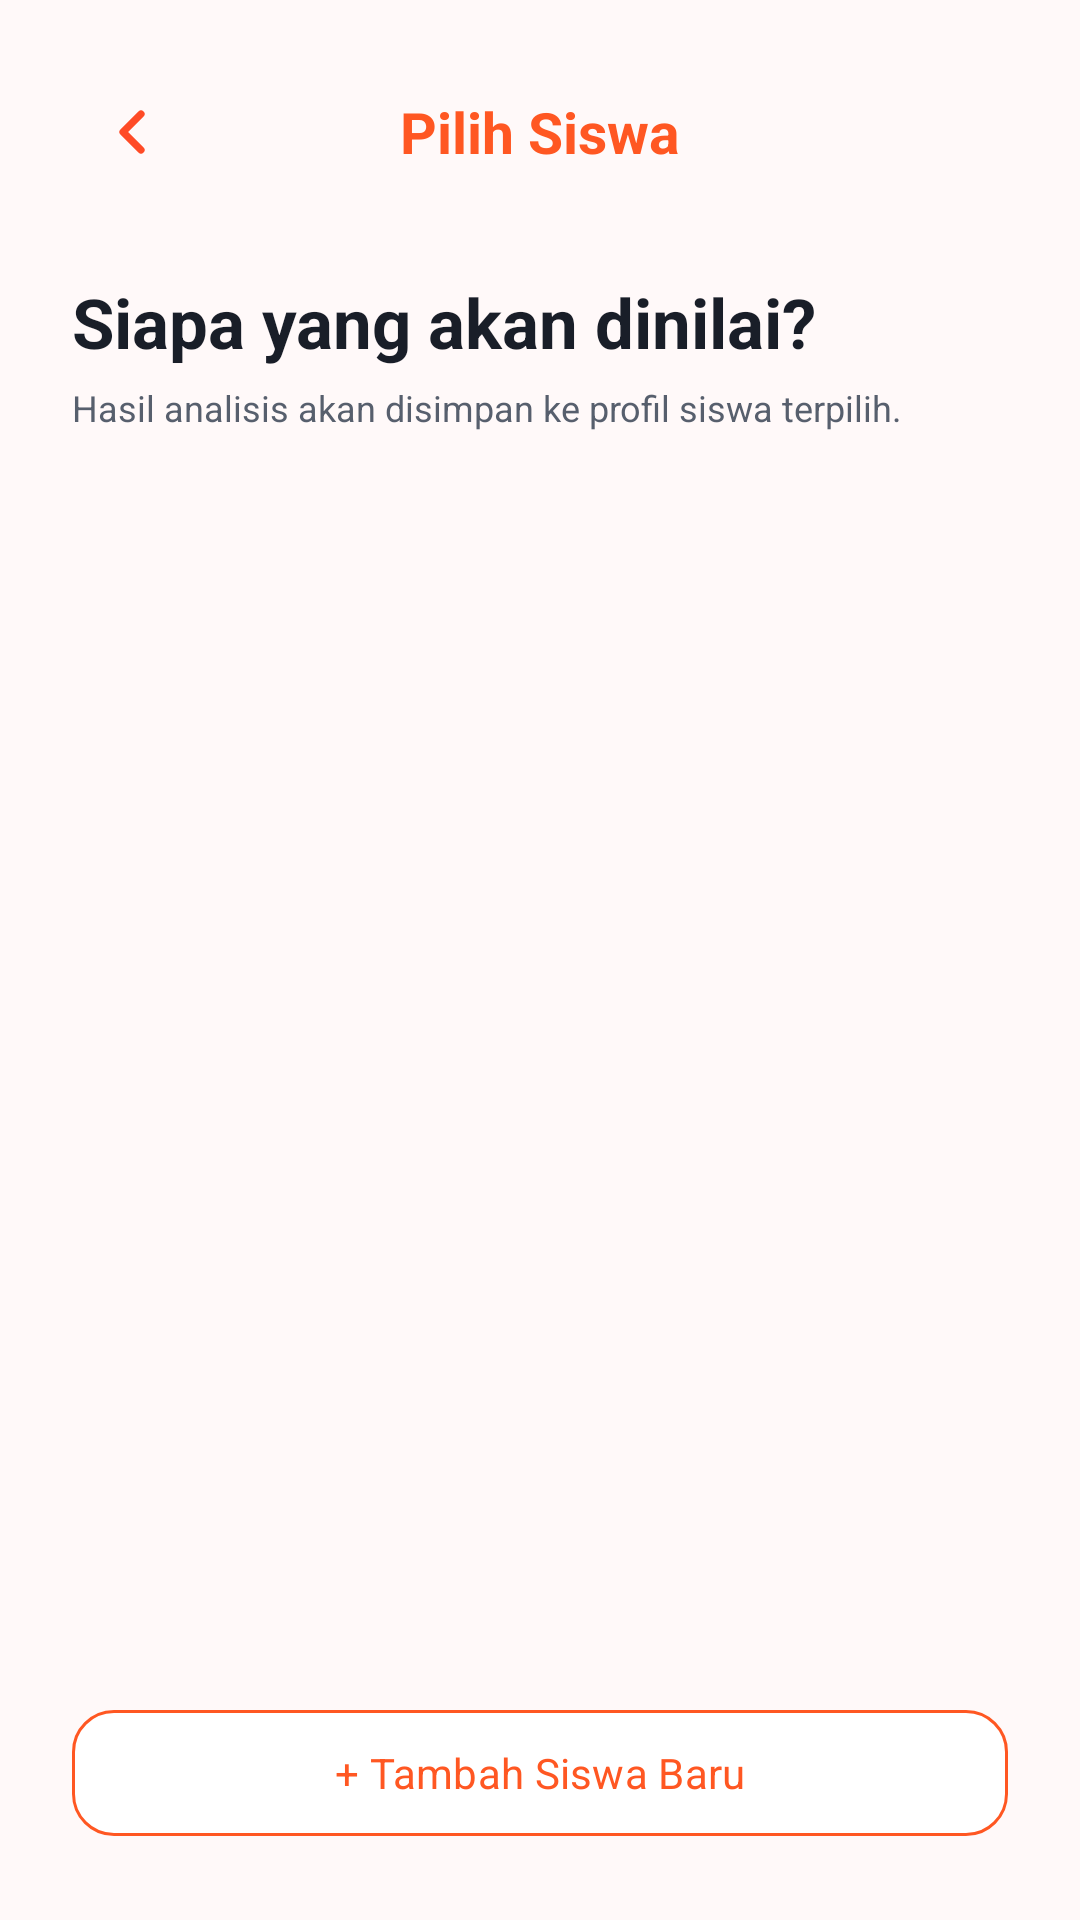

Icon bounding boxes for this 1080*1920 phone screenshot, format BBox(x1, y1, x2, y2):
Kembali: BBox(119, 110, 145, 154)
